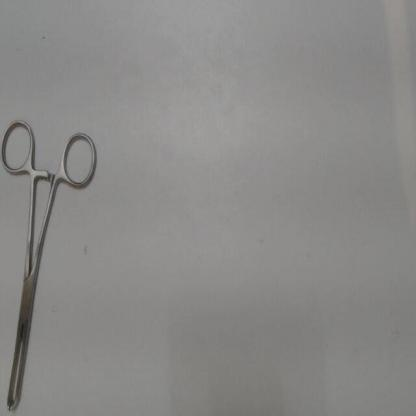Allis Tissue Forceps: (0, 108, 104, 414)
